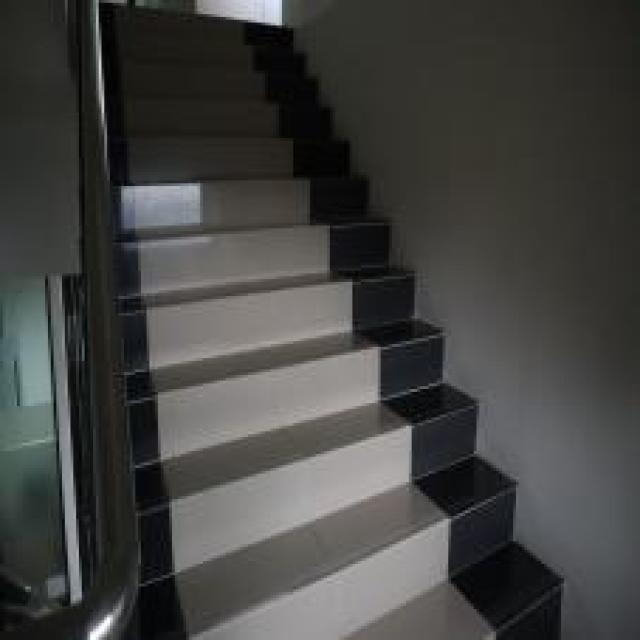upstair: (125, 18, 427, 638)
